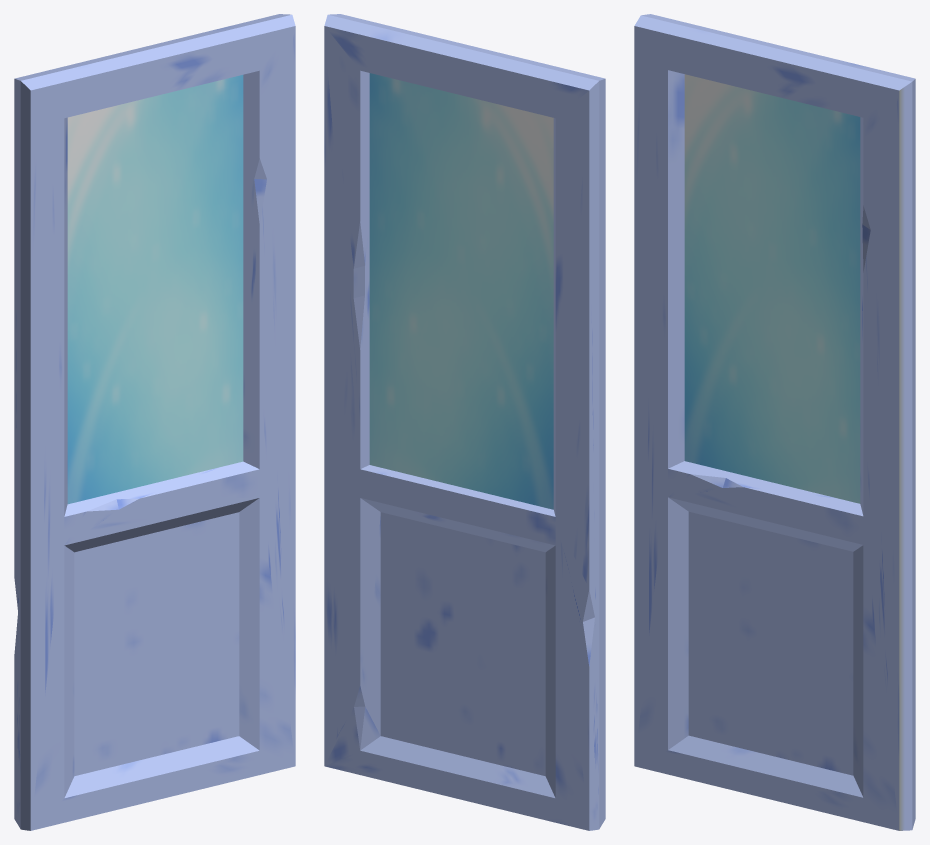
The model's file is Door_SideWindow_01.fbx.
3 renders of one model, left to right at view 1: azimuth 30°, elevation 25°; view 2: azimuth 150°, elevation 25°; view 3: azimuth 330°, elevation 25°, orthographic.
Parts seen in each view (by area): view 1: SM_Bld_Door_Folding_02_Glass_01; view 2: SM_Bld_Door_Folding_02_Glass_01; view 3: SM_Bld_Door_Folding_02_Glass_01.
Part boxes in pixels (x1=…): SM_Bld_Door_Folding_02_Glass_01: x1=14, y1=14, x2=295, y2=830; SM_Bld_Door_Folding_02_Glass_01: x1=324, y1=14, x2=605, y2=830; SM_Bld_Door_Folding_02_Glass_01: x1=634, y1=14, x2=915, y2=830.
Size of the model in its own units: 74.66 by 197 by 7.76.
